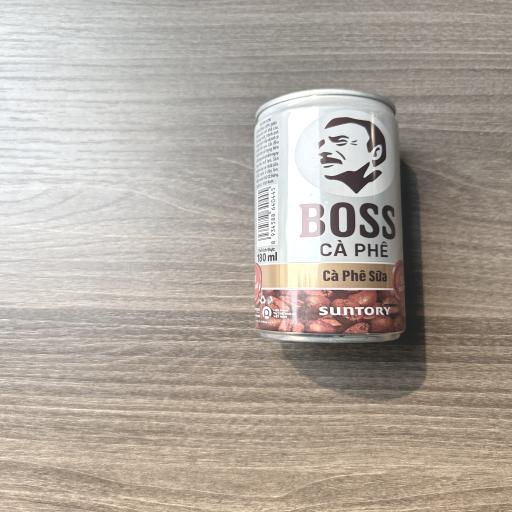boss_coffee: (244, 84, 419, 360)
